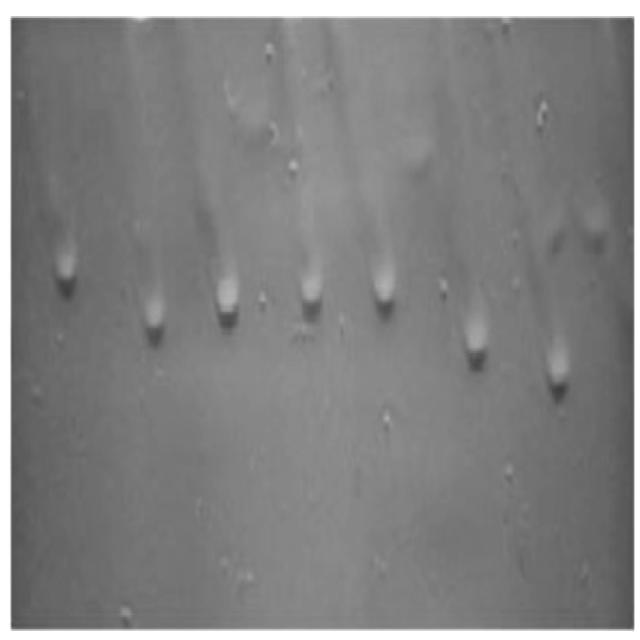paint drips: (122, 24, 338, 423), (278, 24, 489, 416), (456, 28, 630, 441), (25, 22, 173, 412)
